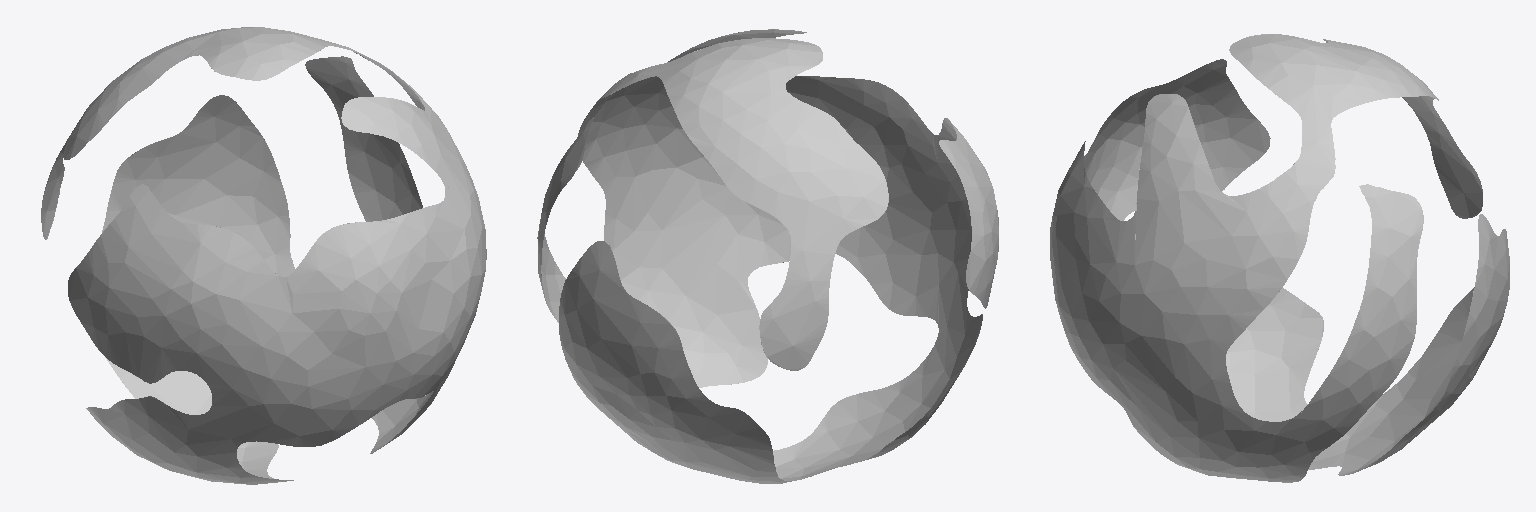
File: planet_clouds_0.obj
3 renders of one model, left to right at view 1: azimuth 30°, elevation 25°; view 2: azimuth 150°, elevation 25°; view 3: azimuth 270°, elevation 25°, orthographic.
Size of the model in its own units: 213 by 217 by 219.